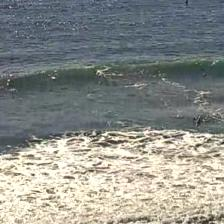surfer: (185, 0, 189, 6)
